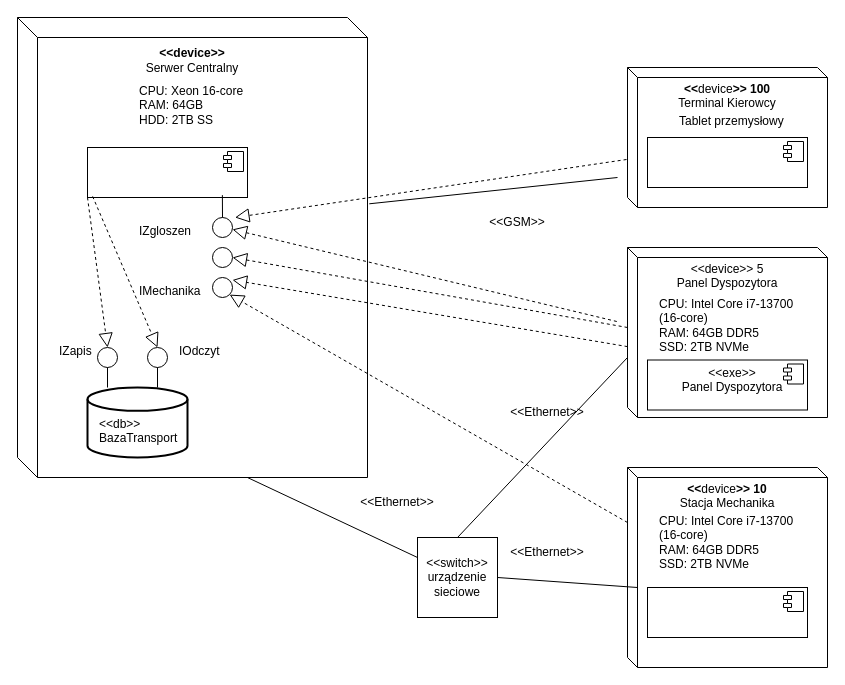
Image size: 845x685. Some labels were removed from this diagram. The shapes that lost their labels are listed below. From the top down, each one's centre as x and y in pixels, then its label:
pixel 167 172: <<exe>> SystemZajezdnia
pixel 727 162: <<exe>> Panel Kierowcy
pixel 222 257: IZarzadzania
pixel 727 612: <<exe>> Panel Mechanika
